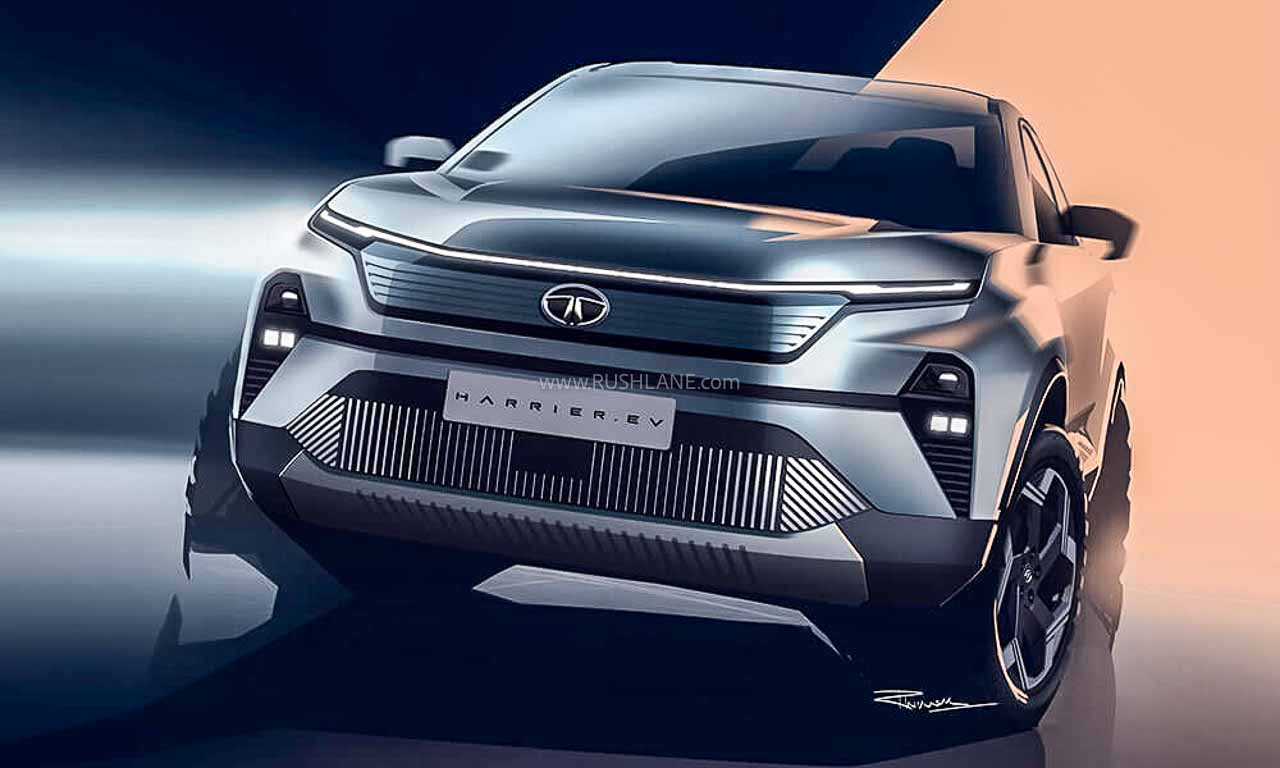Imprimante: (135, 163, 581, 334)
